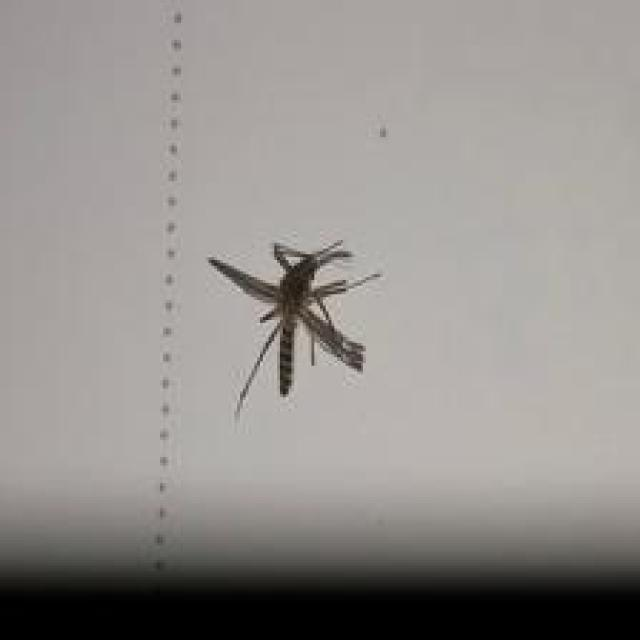Culex: (206, 236, 383, 418)
